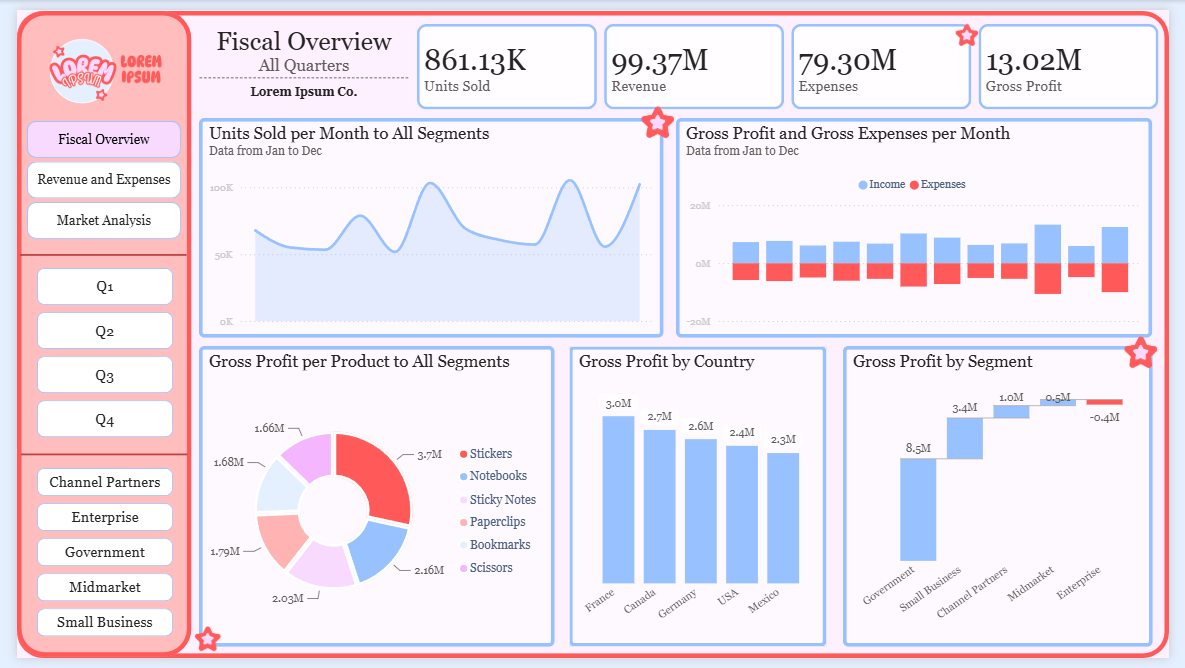

This screenshot's page, from the dashboard's own definition file:
{"tool":"powerbi","page":{"name":"Fiscal Overview","canvas":[1280,720],"ordinal":1},"visuals":[{"type":"shape","box":[0,1.2,1280,718.8],"z":0},{"type":"columnChart","title":"Gross Profit and Gross Expenses per Month","fields":{"Category":["financials.Month Name"],"Y":["Sum(financials.Gross Sales)","Sum(financials.NegCOGS)"]},"box":[732.5,120,528.8,243.8],"z":2000},{"type":"textbox","title":"Fiscal Overview","box":[197.8,18.9,242.2,87.8],"z":4000},{"type":"stackedAreaChart","fields":{"Category":["financials.Month Name"],"Y":["Sum(financials.Units Sold)"]},"box":[202.5,120,516.2,243.8],"z":6000},{"type":"cardVisual","fields":{"Data":["Sum(financials.Units Sold)","Sum(financials.Gross Sales/Revenue)","Sum(financials.COGS)","Sum(financials.Profit)"]},"box":[443.4,14.3,828.3,97.7],"z":7000},{"type":"shape","box":[0,1.2,193.8,717.5],"z":9000},{"type":"pageNavigator","box":[11.2,123.8,171.2,133.7],"z":10000},{"type":"donutChart","fields":{"Category":["financials.Product"],"Y":["Sum(financials.Profit)"]},"box":[202.5,373.8,395,333.8],"z":11000},{"type":"lineStackedColumnComboChart","title":"Gross Profit by Country","fields":{"Category":["financials.Country"],"Y":["Sum(financials.Profit)"]},"box":[613.8,373.8,286.2,333.8],"z":12000},{"type":"advancedSlicerVisual","fields":{"Values":["financials.Quarter Text"]},"box":[22.5,286.2,151.4,191.9],"z":13000},{"type":"shape","box":[3.8,257.5,185,28.7],"z":14000},{"type":"shape","box":[4.1,478.7,184.7,29.8],"z":15000},{"type":"image","box":[15,0,167.5,136.2],"z":16000},{"type":"advancedSlicerVisual","fields":{"Values":["financials.Segment"]},"box":[22.5,508.8,151.4,191.9],"z":17000},{"type":"waterfallChart","title":"Gross Profit by Segment","fields":{"Category":["financials.Segment"],"Y":["Sum(financials.Profit)"]},"box":[917.5,373.8,343.8,333.8],"z":18000},{"type":"image","box":[1222.7,358.8,53.8,45],"z":18500},{"type":"image","box":[683.9,103.5,55,45],"z":19000},{"type":"image","box":[194.3,679.8,35,38.8],"z":19500},{"type":"image","box":[1040.2,9.7,31.2,36.2],"z":20000}]}

Visuals, with their boxes in screenshot pixels (x1, y1, x2, y2), scaled from the page's 1280x720 canvas onto the 1185x668 screenshot:
shape: detection(0, 1, 1184, 667)
"Gross Profit and Gross Expenses per Month" columnChart: detection(678, 111, 1168, 338)
"Fiscal Overview" textbox: detection(183, 18, 407, 99)
stackedAreaChart - financials.Month Name x Sum(financials.Units Sold): detection(187, 111, 665, 338)
cardVisual - Sum(financials.Units Sold) x Sum(financials.Gross Sales/Revenue): detection(410, 13, 1177, 104)
shape: detection(0, 1, 179, 667)
pageNavigator: detection(10, 115, 169, 239)
donutChart - financials.Product x Sum(financials.Profit): detection(187, 347, 553, 656)
"Gross Profit by Country" lineStackedColumnComboChart: detection(568, 347, 833, 656)
advancedSlicerVisual - financials.Quarter Text: detection(21, 266, 161, 444)
shape: detection(4, 239, 175, 266)
shape: detection(4, 444, 175, 472)
image: detection(14, 0, 169, 126)
advancedSlicerVisual - financials.Segment: detection(21, 472, 161, 650)
"Gross Profit by Segment" waterfallChart: detection(849, 347, 1168, 656)
image: detection(1132, 333, 1182, 375)
image: detection(633, 96, 684, 138)
image: detection(180, 631, 212, 667)
image: detection(963, 9, 992, 43)
